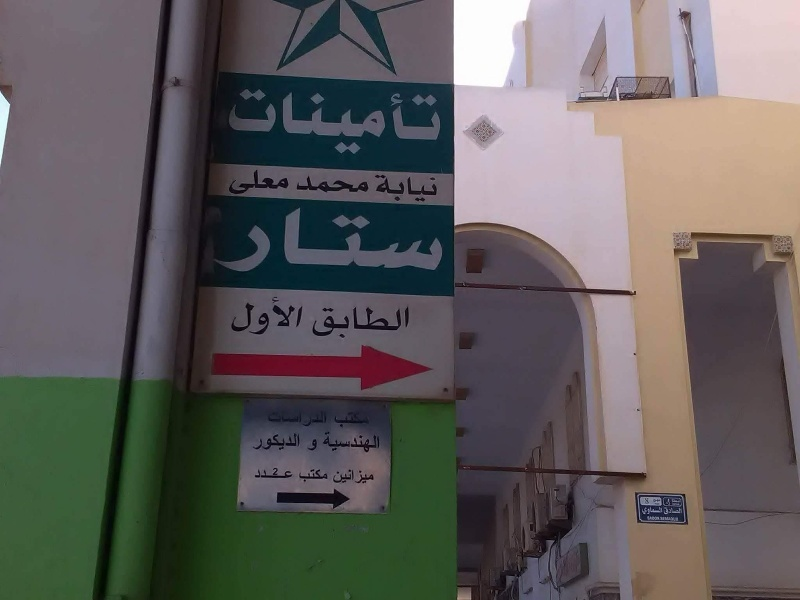text: (241, 86, 256, 158), (257, 86, 272, 158), (273, 86, 288, 158), (289, 86, 304, 158), (305, 86, 320, 158), (321, 86, 336, 158), (337, 86, 352, 158), (353, 86, 368, 158), (369, 86, 384, 158), (385, 86, 400, 158), (401, 86, 416, 158), (417, 86, 432, 158), (225, 205, 240, 274), (241, 205, 256, 274), (257, 205, 272, 274), (273, 205, 288, 274), (289, 205, 304, 274), (305, 205, 320, 274), (321, 205, 336, 274), (337, 205, 352, 274), (353, 205, 368, 274), (369, 205, 384, 274), (385, 205, 400, 274), (401, 205, 416, 274), (417, 205, 432, 274), (227, 86, 240, 158), (433, 205, 444, 274), (433, 86, 443, 158), (241, 292, 256, 339), (257, 292, 272, 339), (273, 292, 288, 339), (289, 292, 304, 339), (321, 306, 336, 342), (337, 306, 352, 342), (353, 306, 368, 342), (369, 306, 384, 342), (385, 306, 400, 342), (385, 173, 400, 203), (401, 173, 416, 203), (417, 173, 432, 203), (231, 292, 240, 339), (241, 169, 256, 195), (257, 169, 272, 195), (273, 169, 288, 195), (401, 306, 411, 342), (321, 431, 336, 453), (337, 431, 352, 453), (353, 431, 368, 453), (305, 175, 320, 195), (321, 175, 336, 195), (337, 175, 352, 195), (353, 175, 368, 195), (220, 205, 224, 274), (375, 173, 384, 203), (337, 468, 352, 486), (353, 468, 368, 486), (257, 433, 272, 451), (273, 433, 288, 451), (273, 409, 288, 427), (289, 409, 304, 427), (305, 409, 320, 427), (369, 431, 381, 453), (337, 412, 352, 429), (353, 412, 368, 429), (231, 169, 240, 195), (305, 468, 320, 483), (289, 433, 301, 451), (433, 173, 439, 203), (315, 306, 320, 342), (295, 175, 304, 195), (257, 469, 272, 480), (273, 469, 288, 480), (308, 439, 320, 451), (321, 409, 329, 427), (321, 468, 329, 483), (273, 468, 288, 476), (642, 507, 656, 515), (305, 292, 307, 339), (298, 468, 304, 483), (369, 468, 374, 486), (645, 497, 656, 505), (252, 433, 256, 451), (268, 409, 272, 427), (673, 508, 683, 515), (663, 508, 672, 515), (660, 517, 672, 522), (657, 507, 664, 515), (333, 468, 336, 486), (647, 516, 656, 521), (289, 469, 293, 480), (666, 499, 672, 506), (334, 412, 336, 429), (673, 499, 681, 503), (673, 517, 679, 522), (289, 169, 290, 195), (657, 498, 662, 503), (254, 469, 256, 480), (369, 175, 370, 195), (369, 412, 370, 429), (653, 498, 656, 503), (657, 516, 660, 521)
